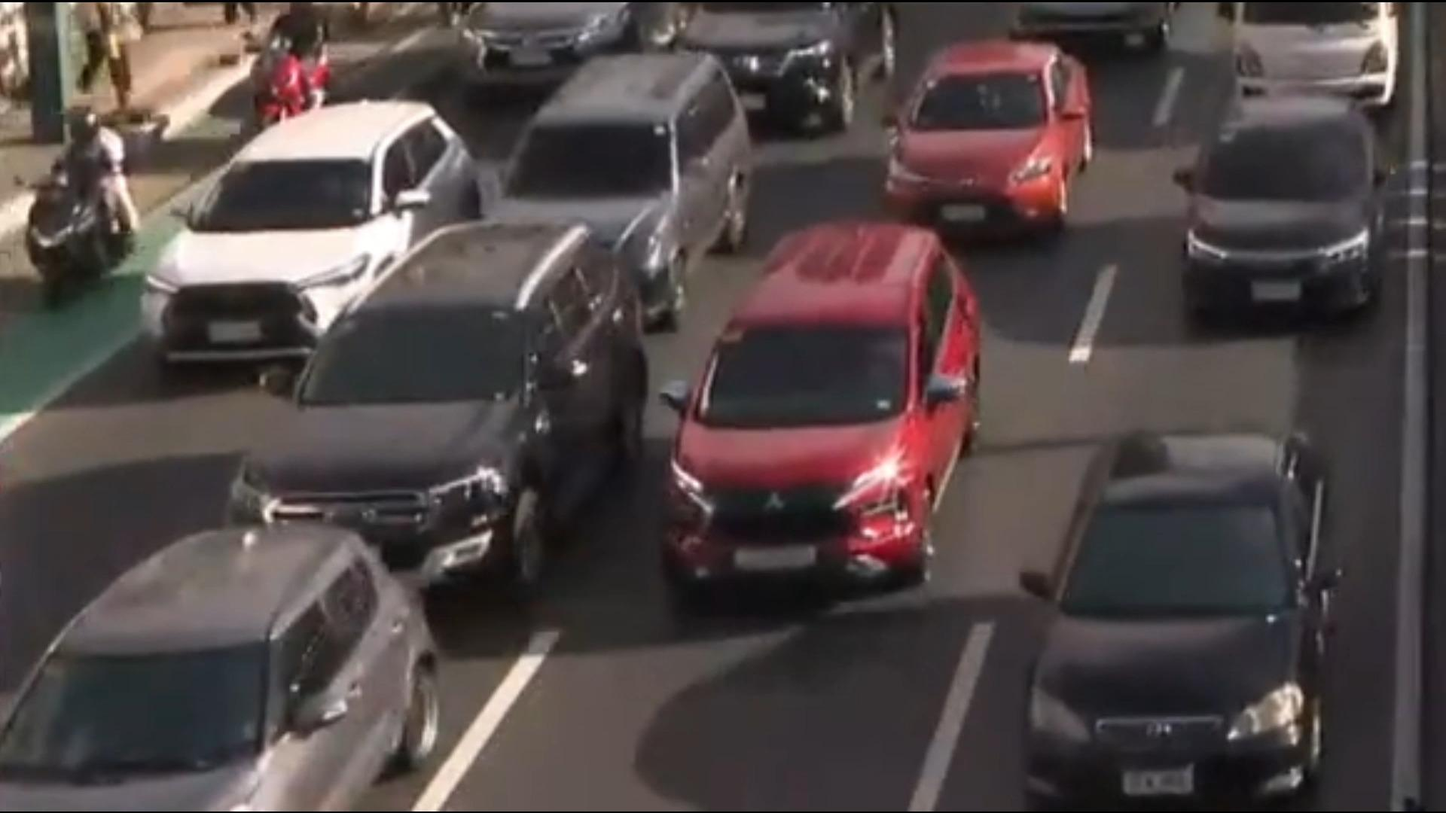Motorcycle: (0, 85, 159, 312), (224, 6, 354, 143)
SUV: (188, 205, 694, 613), (606, 200, 1023, 624), (105, 87, 482, 374), (468, 47, 759, 325), (647, 0, 927, 155)
Sedan: (962, 405, 1379, 813), (0, 509, 461, 813), (1138, 81, 1412, 336), (840, 29, 1130, 247)
Truck: (1202, 6, 1430, 116)
